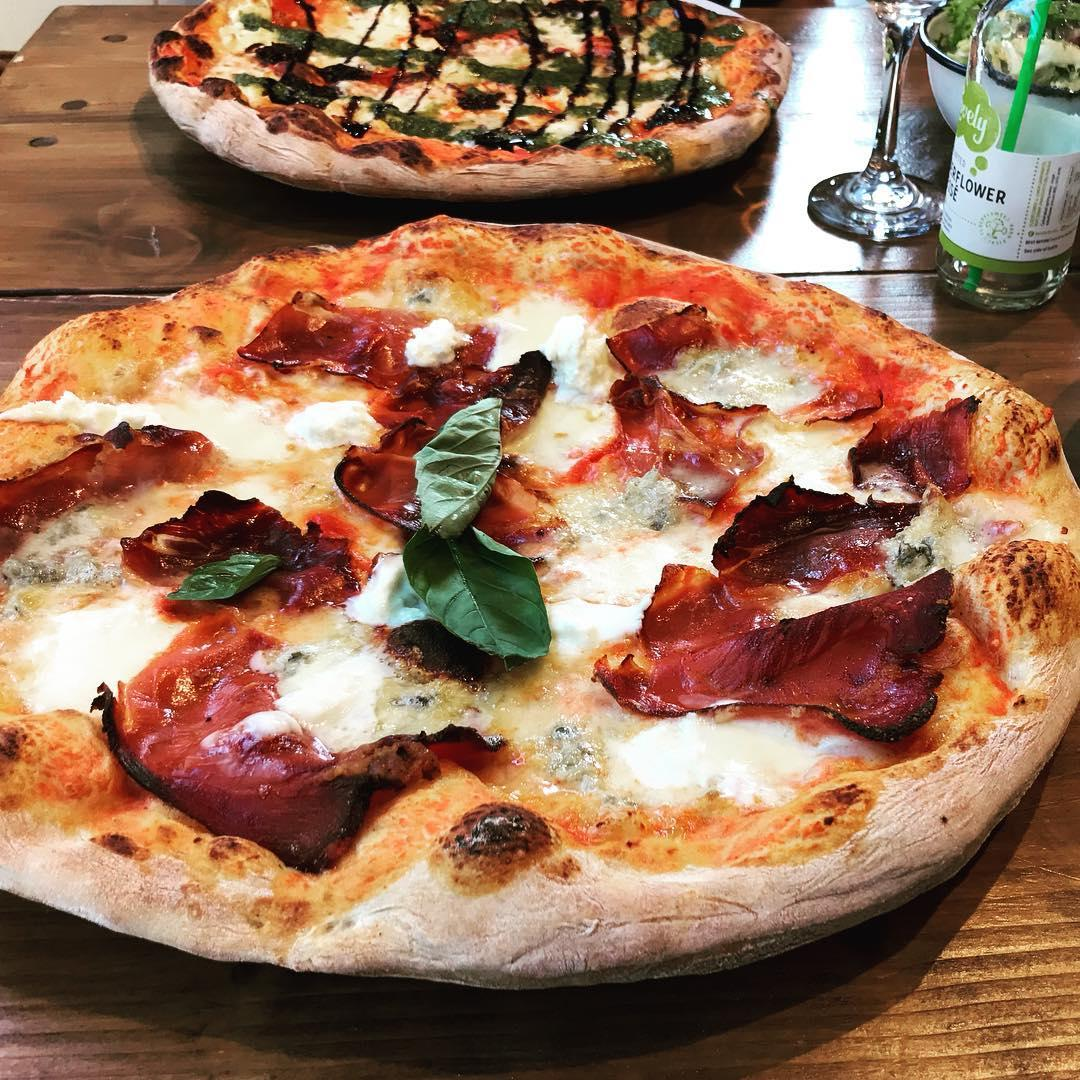Basil: (407, 389, 554, 674), (167, 544, 287, 605)
Cheese: (589, 722, 800, 807), (22, 557, 125, 684), (562, 501, 642, 626), (227, 401, 331, 492), (289, 626, 376, 724), (509, 307, 596, 355), (701, 358, 802, 398), (557, 363, 609, 436)
Ham: (100, 618, 397, 871), (590, 563, 960, 750), (710, 477, 921, 588), (593, 369, 763, 502), (7, 413, 222, 494), (124, 493, 328, 561), (851, 390, 980, 487), (231, 298, 381, 374), (333, 383, 414, 523), (601, 294, 715, 375), (466, 335, 551, 423), (379, 365, 479, 422), (489, 471, 565, 533)
Pizza: (6, 223, 1080, 961), (145, 0, 795, 188)
